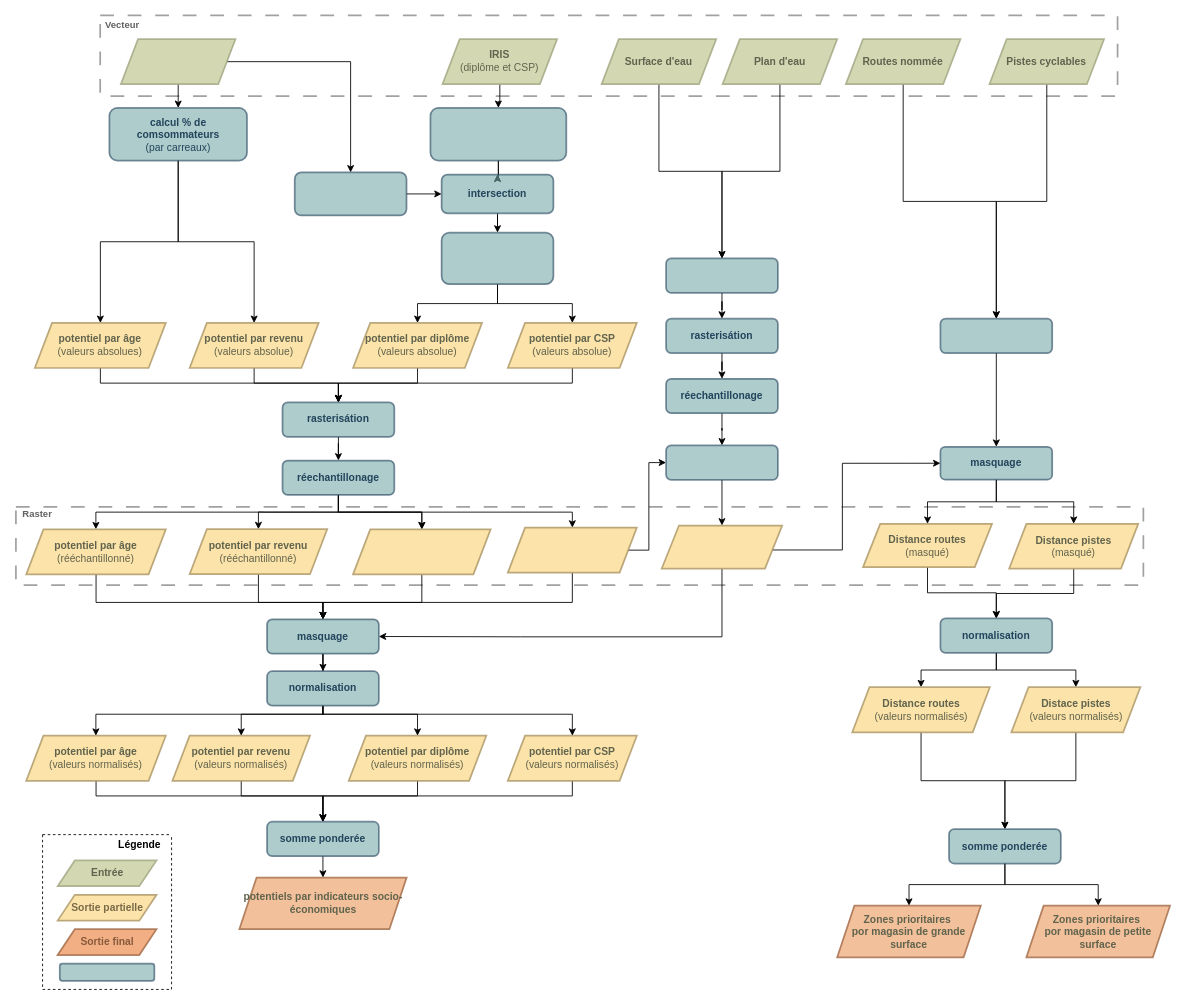
Image size: 1185x1005. Some labels were removed from this diagram. Here are the shapes that lost their labels. From the top down, the box of each, then its label:
(120, 38, 236, 85): Carreaux Filosofi (âge et revenu)
(429, 107, 567, 161): calcul % de la population dans chaque catégorie (par IRIS)
(293, 171, 407, 216): calcul de la population active
(440, 231, 554, 285): Estimation de la population dans chaque catégorie
(665, 257, 778, 293): fusion
(939, 317, 1053, 353): calcul de la distance
(665, 444, 778, 480): binarisation
(352, 528, 491, 575): potentiel par diplôme (rééchantillonné)
(507, 526, 637, 573): potentiel par CSP (rééchantillonné)
(660, 524, 783, 569): Masque (eau + carreaux)
(58, 962, 155, 981): Traitement/Calcul
